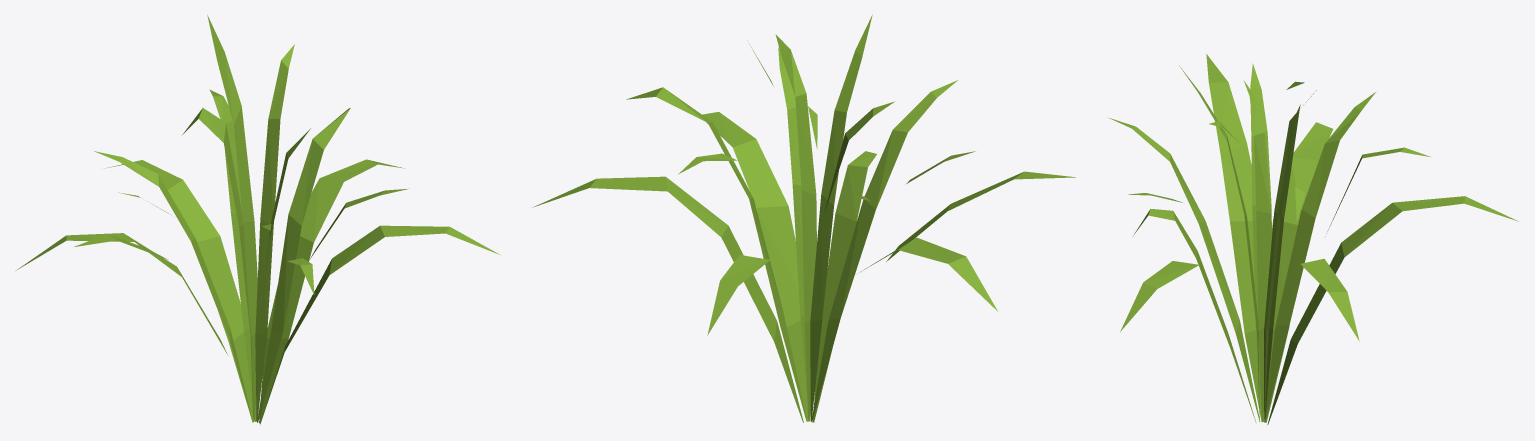
File: grass-big-b.gltf
3 renders of one model, left to right at view 1: azimuth 30°, elevation 25°; view 2: azimuth 150°, elevation 25°; view 3: azimuth 270°, elevation 25°, orthographic. The views are drawn at different scales.
Visible parts, largest first — view 1: grass-big-b; view 2: grass-big-b; view 3: grass-big-b.
Part boxes in pixels (bbox=[...]): grass-big-b: bbox=[16, 15, 499, 424]; grass-big-b: bbox=[532, 15, 1075, 422]; grass-big-b: bbox=[1108, 54, 1518, 424].
Bounding box in the file's own units: 0.0172 × 0.0155 × 0.0143.
